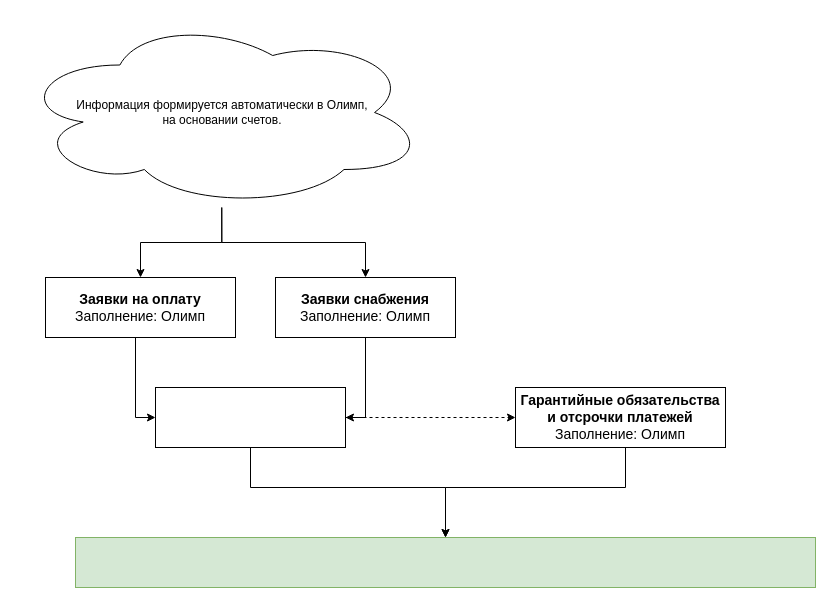
Some shapes in this 833 by 605 pixel diagram are drawn without their labels. Here are the shapes that lost their labels. From the top down, the centre of each, then its label:
At (x=250, y=417): "Формирование счета Заполнение: Олимп Интеграция через API".
At (x=445, y=562): "Учет дебиторской и кредиторской задолженности ФинТабло".
